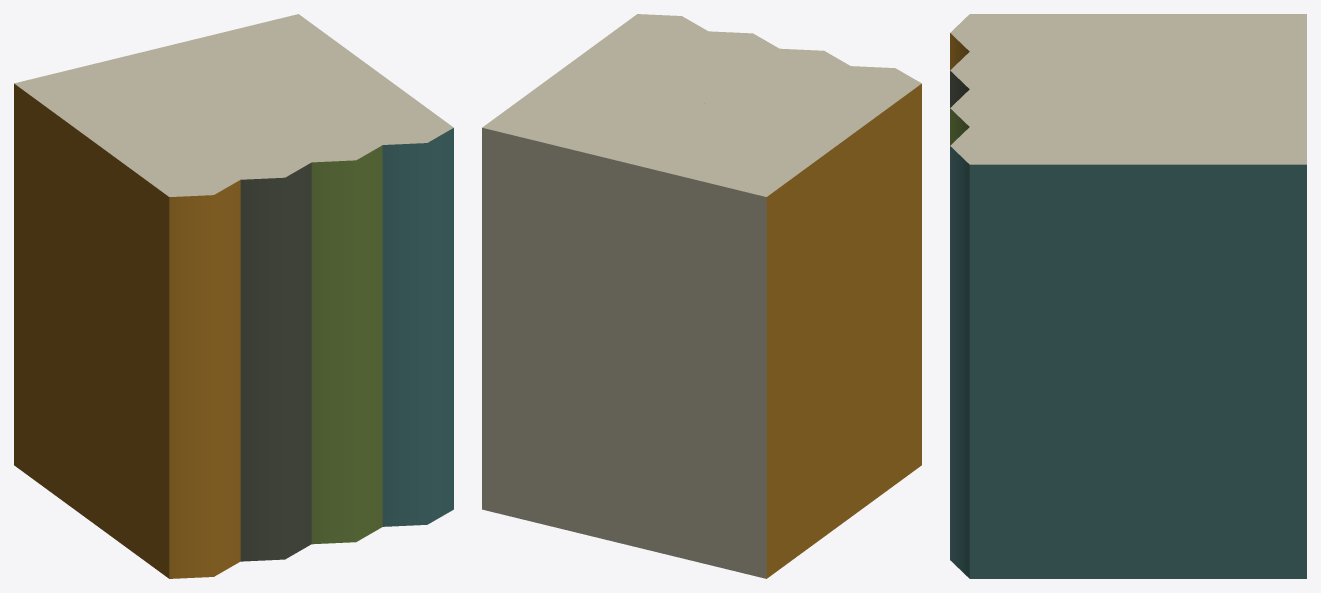
The model's file is 22_prop_books.FBX.
3 views of the same model, side by side, from view 1: azimuth 30°, elevation 25°; view 2: azimuth 150°, elevation 25°; view 3: azimuth 270°, elevation 25° (orthographic). The views are drawn at different scales.
Visible parts, largest first — view 1: prop_books; view 2: prop_books; view 3: prop_books.
Boxes of the visible parts, x1,y1,x2,y2 form: prop_books: (14, 14, 453, 578); prop_books: (482, 14, 921, 578); prop_books: (950, 14, 1306, 578).
Size of the model in its own units: 13.45 by 17.25 by 13.46.
